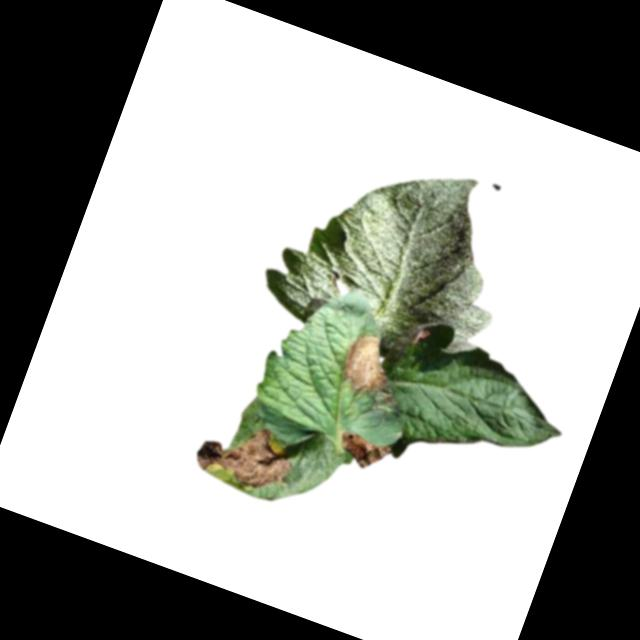Late_blight: (189, 405, 304, 507), (336, 325, 412, 404), (334, 427, 396, 476)
